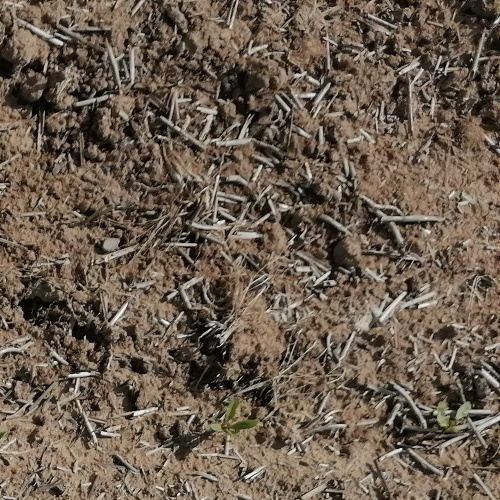beet: (210, 397, 260, 438)
